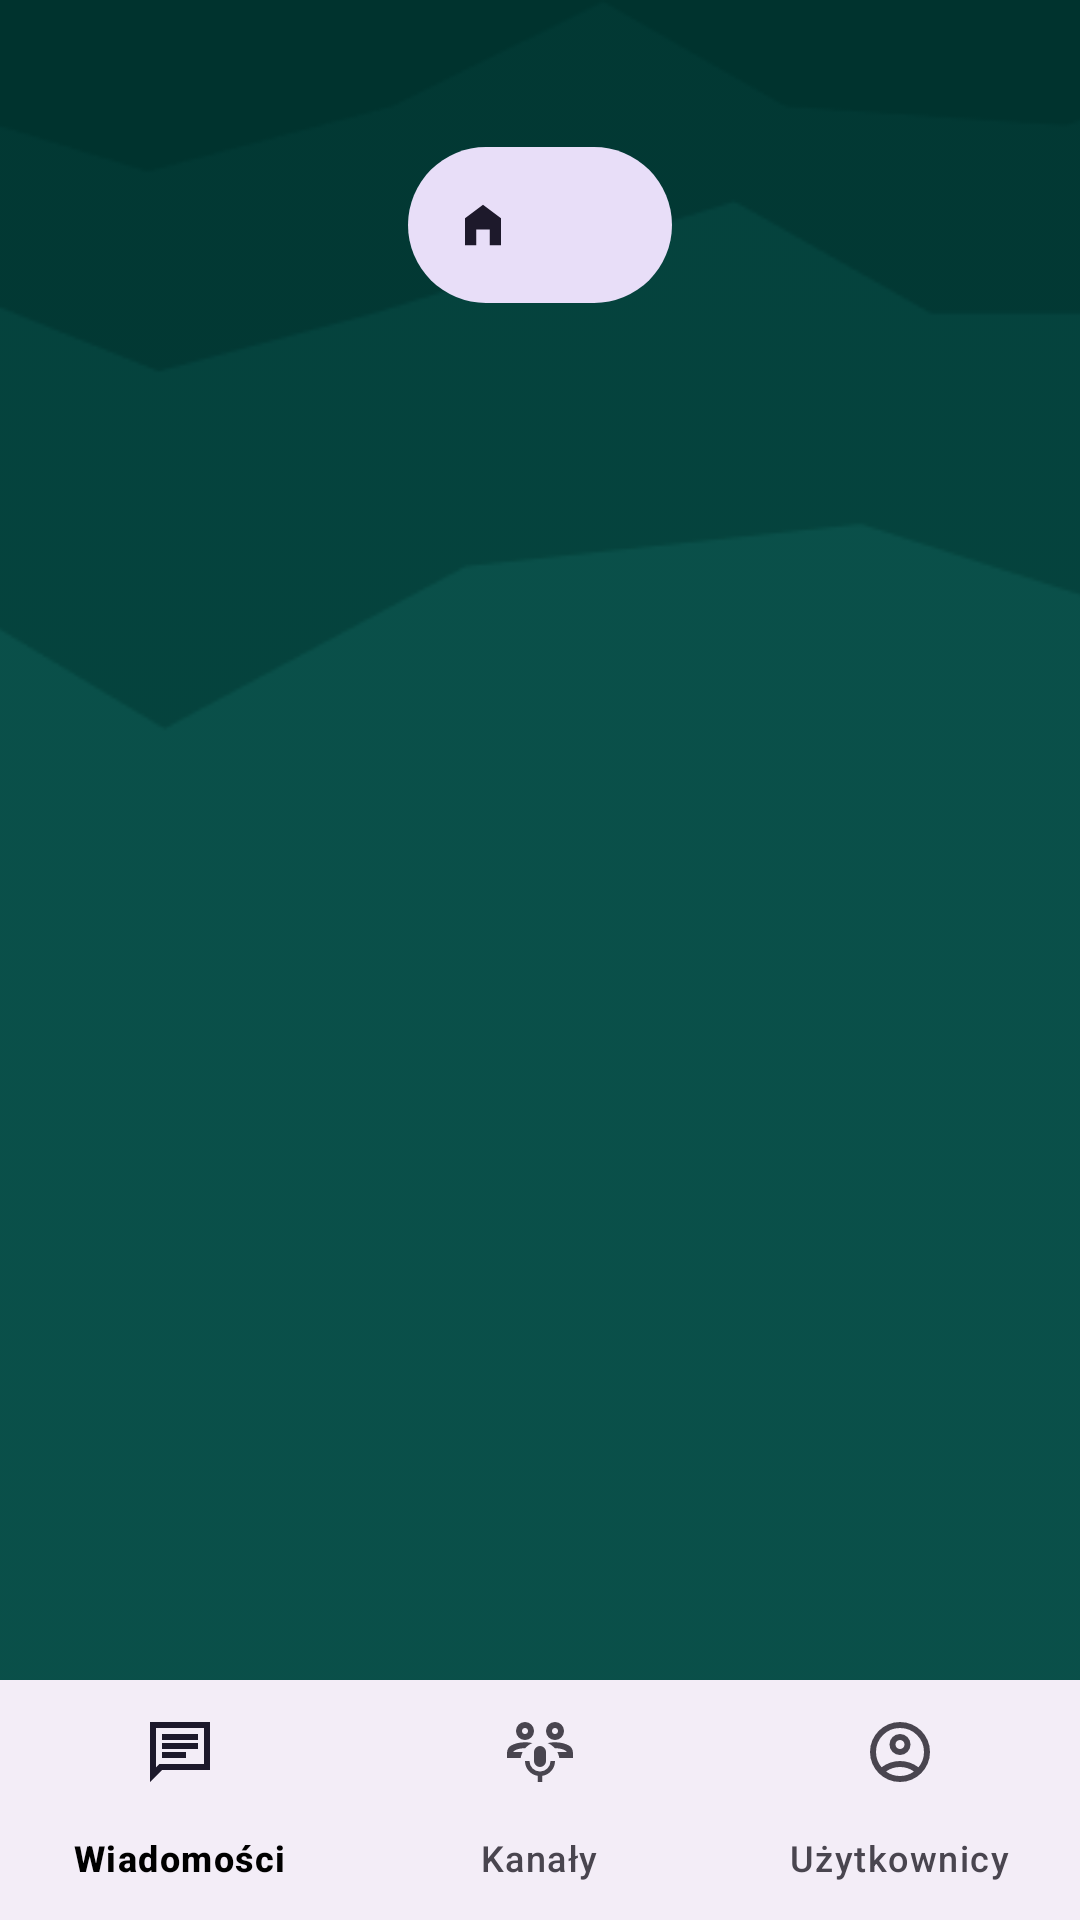

Screen size 1080*1920. Icon name, then its center in pixels as point (x, y):
home: point (540, 225)
